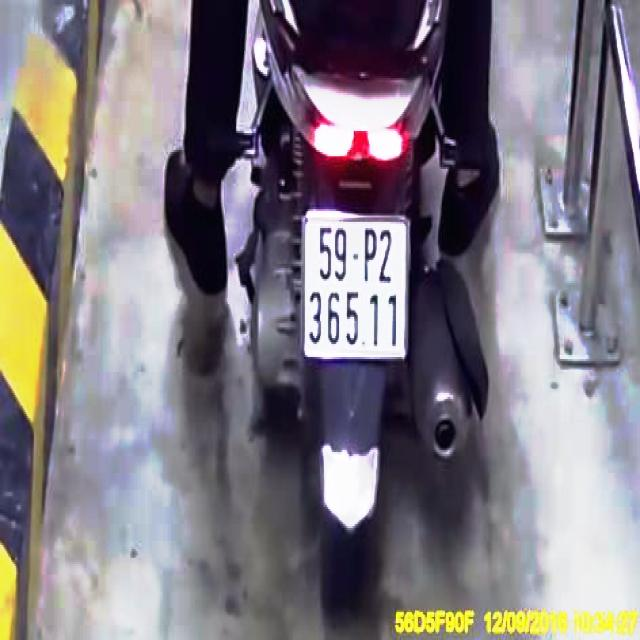license_plate: (303, 211, 410, 360)
